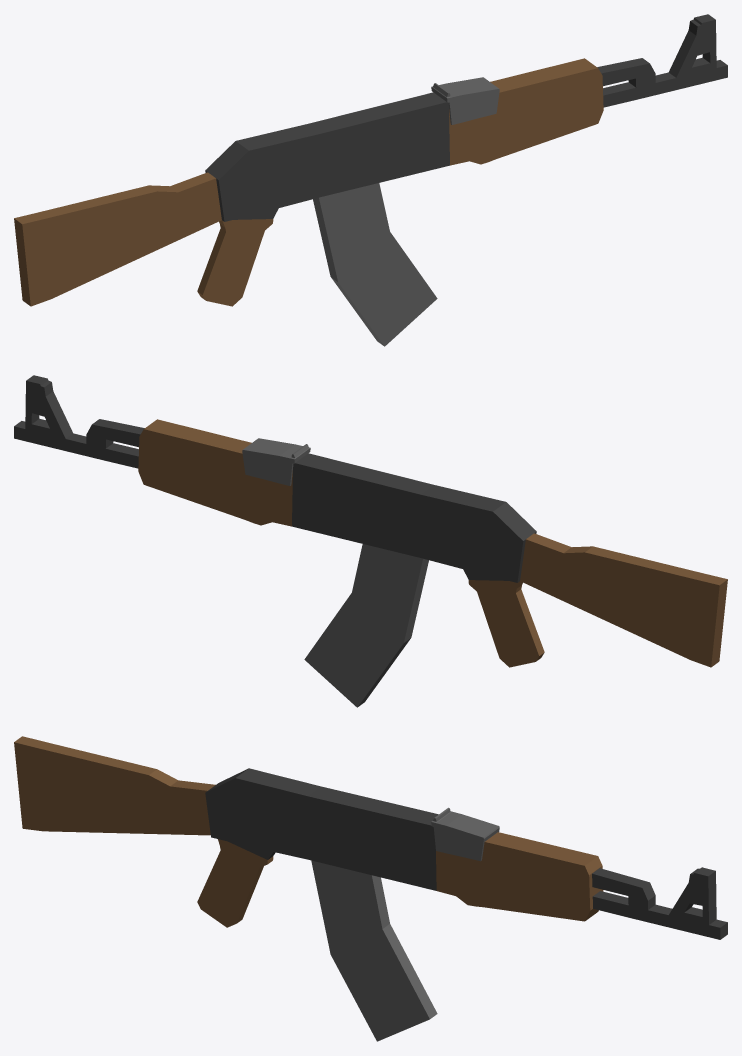
3 views of the same model, one above another, from view 1: azimuth 30°, elevation 25°; view 2: azimuth 150°, elevation 25°; view 3: azimuth 330°, elevation 25° (orthographic).
Parts seen in each view (by area): view 1: AK_Body, AK_Mag, Ak_exit, Ak_handler, Cube.001; view 2: AK_Body, AK_Mag, Ak_exit, Ak_handler, Cube.001; view 3: AK_Body, AK_Mag, Ak_exit, Ak_handler, Cube.001.
Boxes of the visible parts, x1,y1,x2,y2 form: AK_Body: [14, 58, 603, 306]; AK_Mag: [313, 183, 437, 346]; Ak_exit: [597, 14, 727, 107]; Ak_handler: [197, 208, 278, 306]; Cube.001: [431, 77, 499, 124]; AK_Body: [138, 419, 727, 667]; AK_Mag: [304, 544, 428, 707]; Ak_exit: [14, 375, 144, 468]; Ak_handler: [463, 569, 544, 667]; Cube.001: [242, 438, 310, 485]; AK_Body: [14, 736, 603, 921]; AK_Mag: [311, 860, 437, 1041]; Ak_exit: [592, 867, 727, 939]; Ak_handler: [197, 839, 275, 927]; Cube.001: [431, 807, 499, 861].
Bounding box in the file's own units: 1002 × 334 × 39.03.
1 material, 1 textured.
